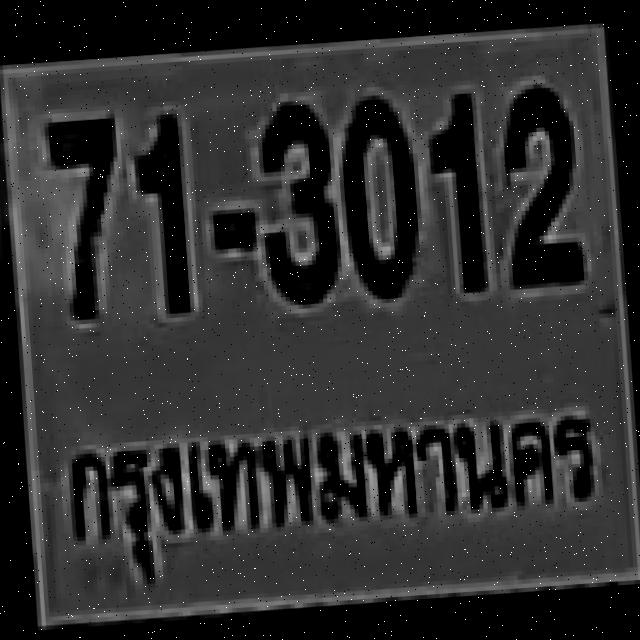0: (334, 90, 418, 296)
1: (420, 88, 484, 290), (128, 111, 192, 300), (131, 111, 190, 313)
2: (494, 84, 582, 283)
3: (248, 95, 338, 302)
7: (40, 114, 124, 317)
Bangkok: (52, 390, 618, 590)
